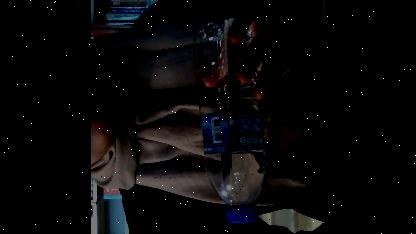Plastic Bottle: (192, 12, 270, 222)
